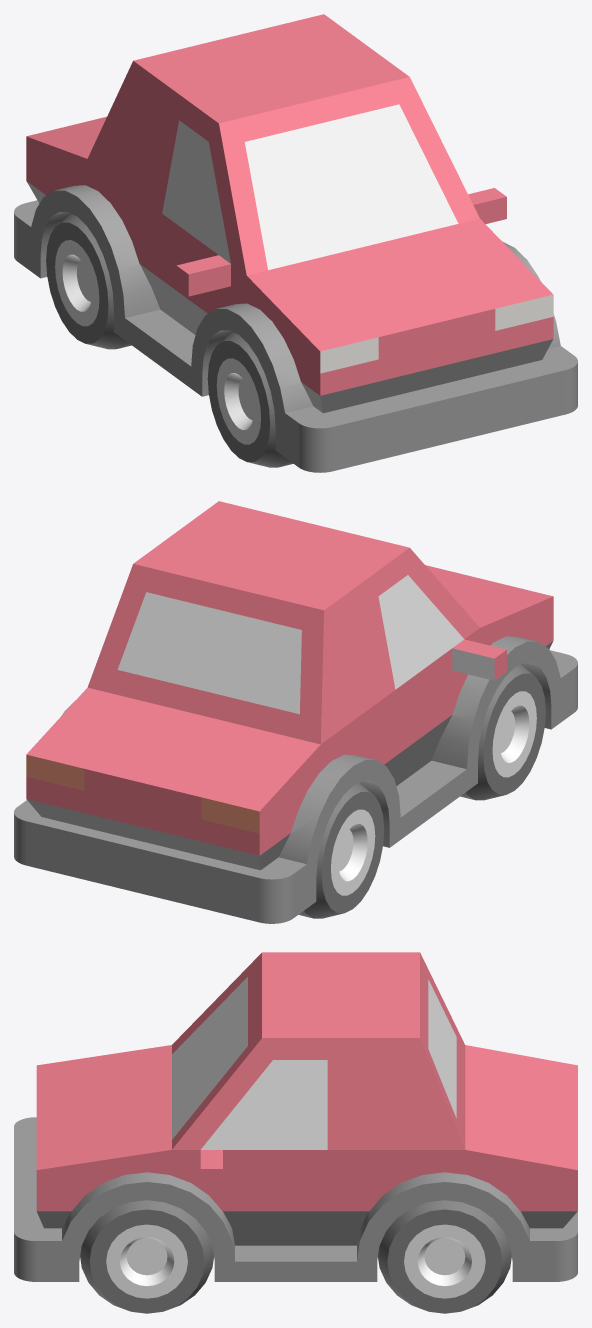
File: sedan.gltf
The picture shows the model from 3 angles, top to bottom: view 1: azimuth 30°, elevation 25°; view 2: azimuth 150°, elevation 25°; view 3: azimuth 270°, elevation 25°; orthographic projection. The views are drawn at different scales.
Visible parts, largest first — view 1: sedan; view 2: sedan; view 3: sedan.
Boxes of the visible parts, left/top/right/bottom form: sedan: left=14, top=14, right=577, bottom=472; sedan: left=14, top=501, right=577, bottom=923; sedan: left=14, top=952, right=577, bottom=1313.
Bounding box in the file's own units: 1.12 × 0.975 × 1.88.
